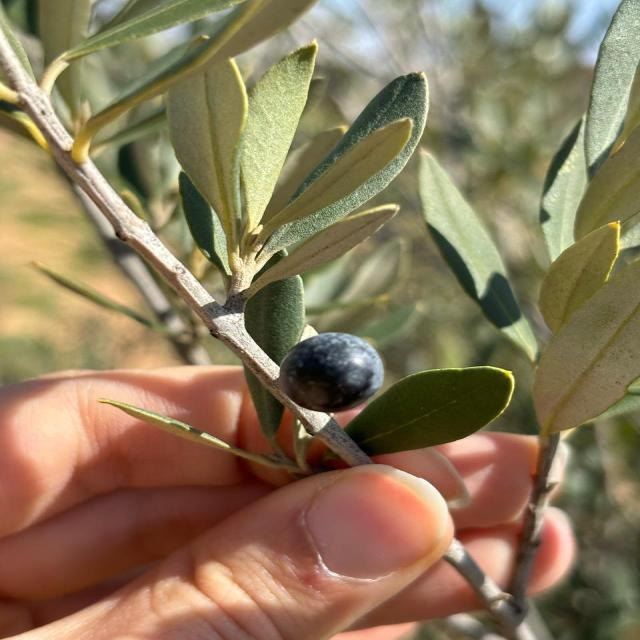Healthy: (345, 366, 513, 456), (241, 204, 399, 299), (279, 332, 383, 416)
